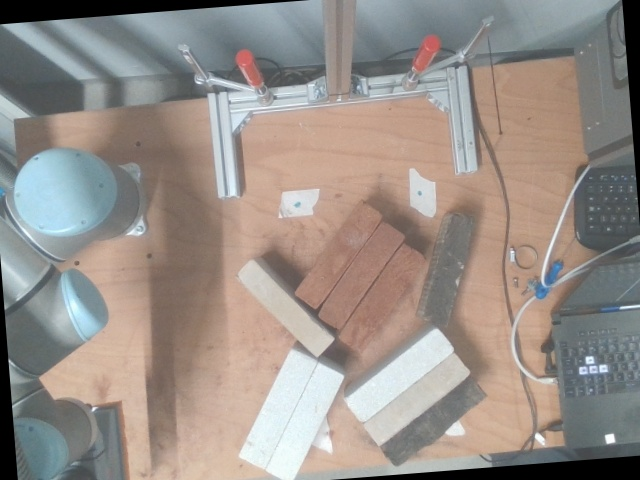brick-side: (348, 331, 453, 420), (365, 355, 470, 444), (295, 202, 381, 309), (317, 222, 403, 329), (339, 244, 425, 351), (383, 379, 485, 465), (236, 261, 330, 354), (242, 355, 314, 466), (267, 369, 339, 479), (429, 215, 476, 323)
